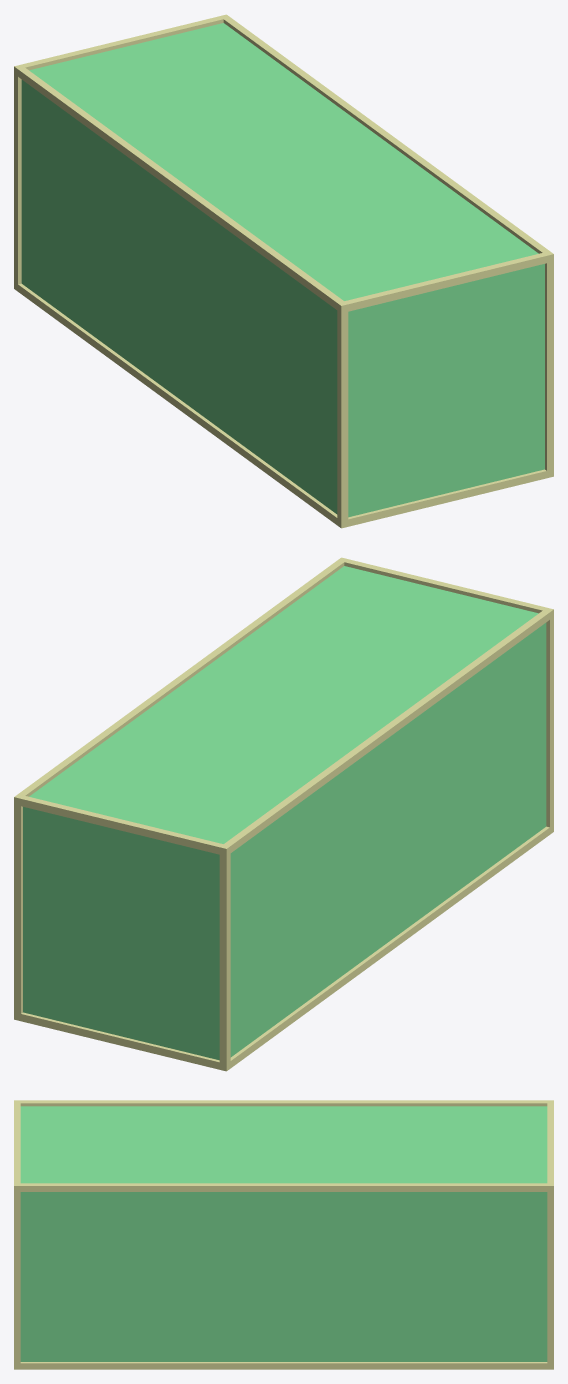
Rendered from cargo.gltf.
3 renders of one model, top to bottom at view 1: azimuth 30°, elevation 25°; view 2: azimuth 150°, elevation 25°; view 3: azimuth 270°, elevation 25°, orthographic. The views are drawn at different scales.
Visible parts, largest first — view 1: Cargo; view 2: Cargo; view 3: Cargo.
Boxes of the visible parts, x1,y1,x2,y2 form: Cargo: (14,14,553,528); Cargo: (14,557,553,1071); Cargo: (14,1100,553,1369).
Bounding box in the file's own units: 3 × 3 × 8.
